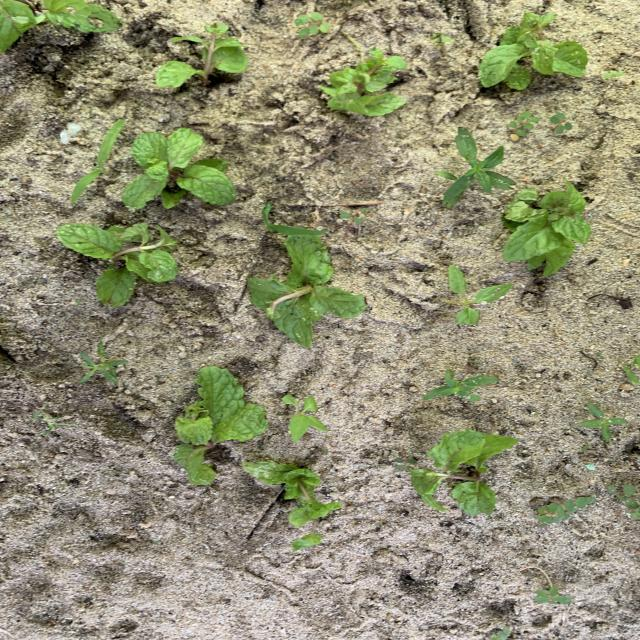crop: (248, 234, 365, 346), (174, 366, 266, 483), (59, 224, 178, 305), (409, 430, 518, 515), (242, 460, 341, 551), (123, 129, 235, 208), (503, 180, 591, 275), (479, 13, 587, 88), (1, 0, 120, 51), (320, 49, 407, 115), (157, 24, 247, 87)
weed: (439, 130, 514, 207), (72, 120, 123, 203), (440, 266, 511, 323), (281, 394, 327, 442), (262, 202, 325, 236), (424, 370, 497, 399), (580, 402, 626, 440), (80, 346, 127, 383), (537, 497, 595, 526), (606, 484, 639, 519), (296, 12, 329, 36), (509, 111, 539, 135), (537, 587, 574, 603), (621, 357, 639, 383), (550, 112, 572, 132), (340, 210, 366, 222), (395, 453, 415, 466), (430, 33, 451, 45), (492, 627, 511, 639), (604, 71, 623, 77), (581, 443, 590, 451), (586, 465, 595, 471), (375, 521, 383, 525)
